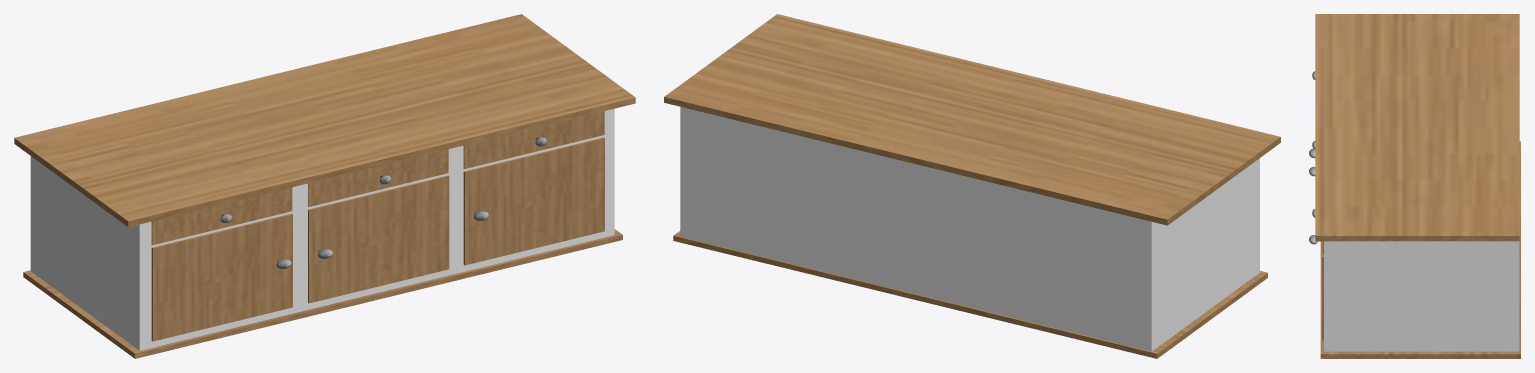
The model's file is side unit (3 doors + drawers).fbx.
3 renders of one model, left to right at view 1: azimuth 30°, elevation 25°; view 2: azimuth 150°, elevation 25°; view 3: azimuth 270°, elevation 25°, orthographic. The views are drawn at different scales.
Parts seen in each view (by area): view 1: Counter, Base, Door 1, Door 1.003, Door 1.001, Base.001, Door 2.001, Door 2, Door 2.003; view 2: Base, Counter, Base.001; view 3: Counter, Base, Base.001, Door 1.001.
Part boxes in pixels (x1,y1,x2,y2): Counter: (14,14,635,227); Base: (30,108,614,350); Door 1: (151,213,292,341); Door 1.003: (308,175,449,303); Door 1.001: (463,137,604,265); Base.001: (23,229,622,358); Door 2.001: (463,111,604,168); Door 2: (151,187,292,245); Door 2.003: (308,149,448,206); Base: (680,107,1259,351); Counter: (664,14,1280,225); Base.001: (673,231,1267,358); Counter: (1315,14,1519,241); Base: (1324,241,1519,351); Base.001: (1320,141,1520,358); Door 1.001: (1322,241,1323,340).
Size of the model in its own units: 2.35 by 0.6302 by 0.9499.
